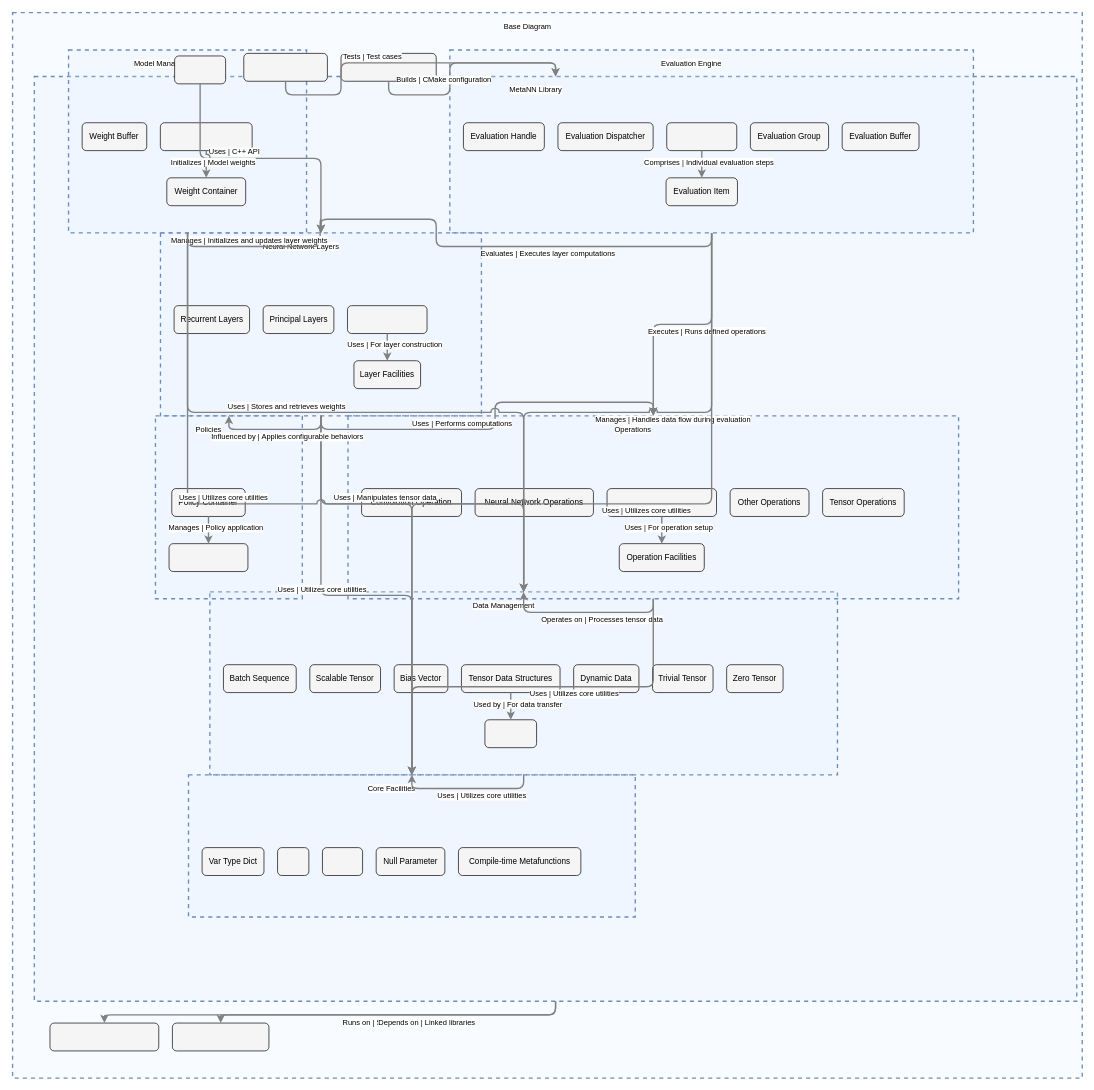
Image size: 1094x1090. Some labels were removed from this diagram. The shapes that lost their labels are listed below. From the top down, each one's centre as x and y in pixels, then its label:
(x=200, y=69): Developer
(x=285, y=67): Testing Framework
(x=388, y=67): Build System (CMake)
(x=206, y=136): Parameter Initializers
(x=701, y=136): Evaluation Plan
(x=387, y=319): Composite Layers
(x=661, y=502): Mathematical Operations
(x=208, y=557): Policy Operations
(x=510, y=733): Data Copy
(x=293, y=861): Traits
(x=342, y=861): Type ID
(x=104, y=1036): Operating System (Linux)
(x=220, y=1036): External C++ Libraries
